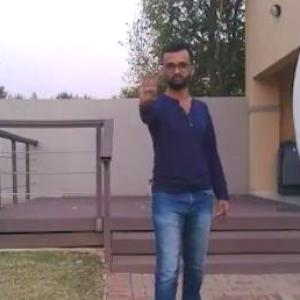takeoff-hand: (129, 62, 162, 107)
